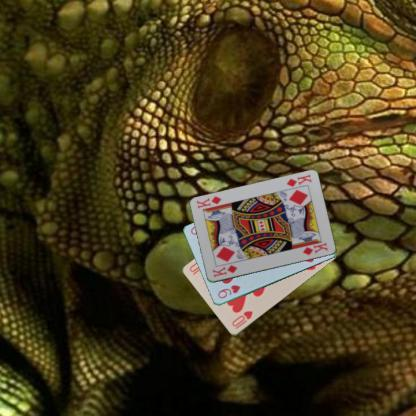10h: (229, 308, 254, 330)
9h: (215, 282, 241, 300)
Kd: (210, 262, 238, 278), (284, 172, 312, 188)
